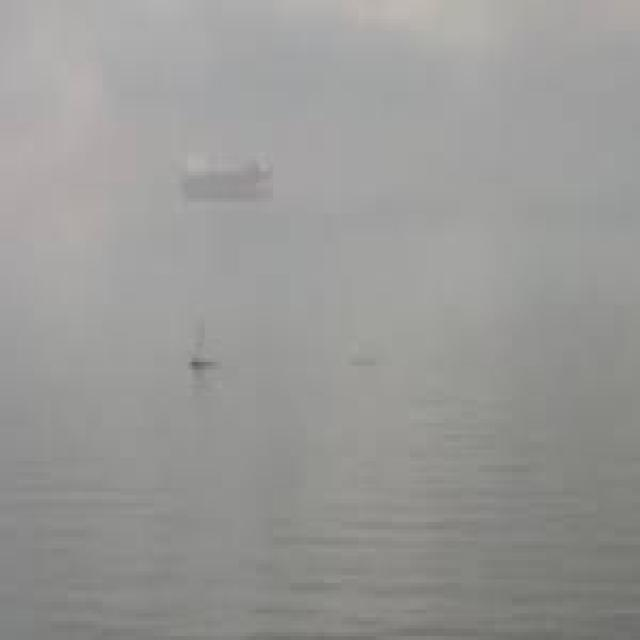cargoship: (174, 147, 276, 199)
